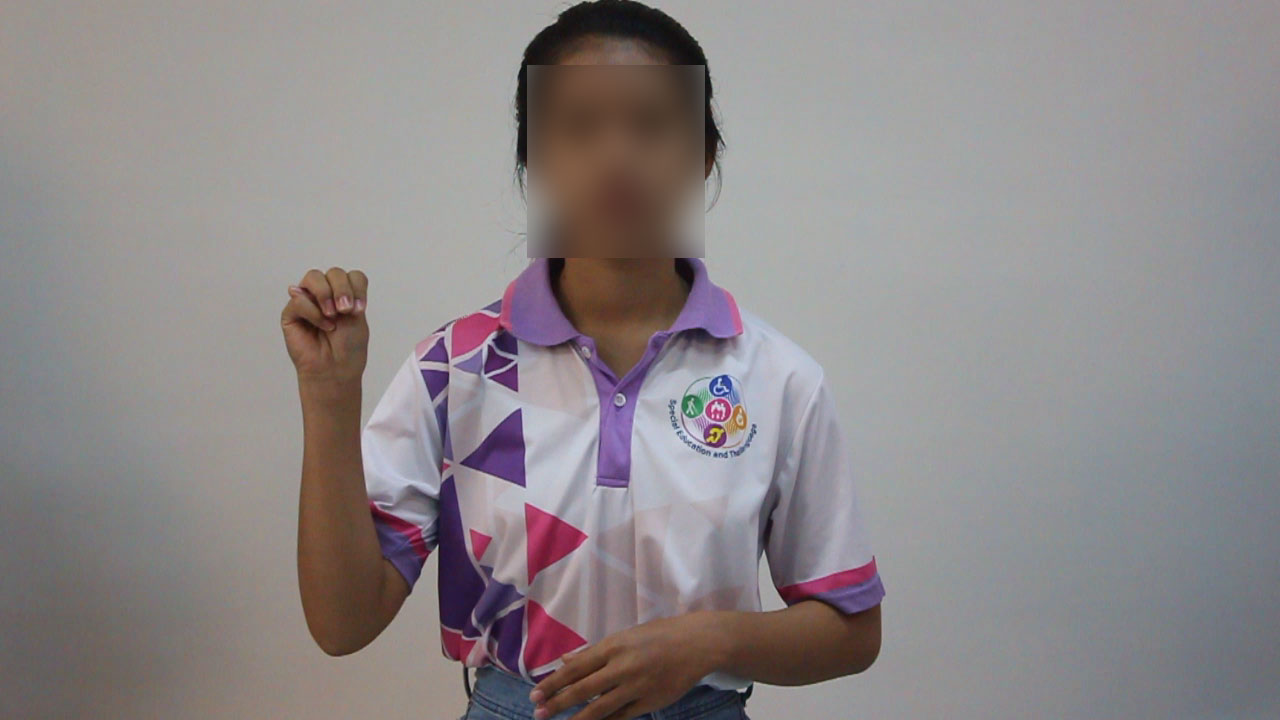mor: (270, 252, 384, 410)
